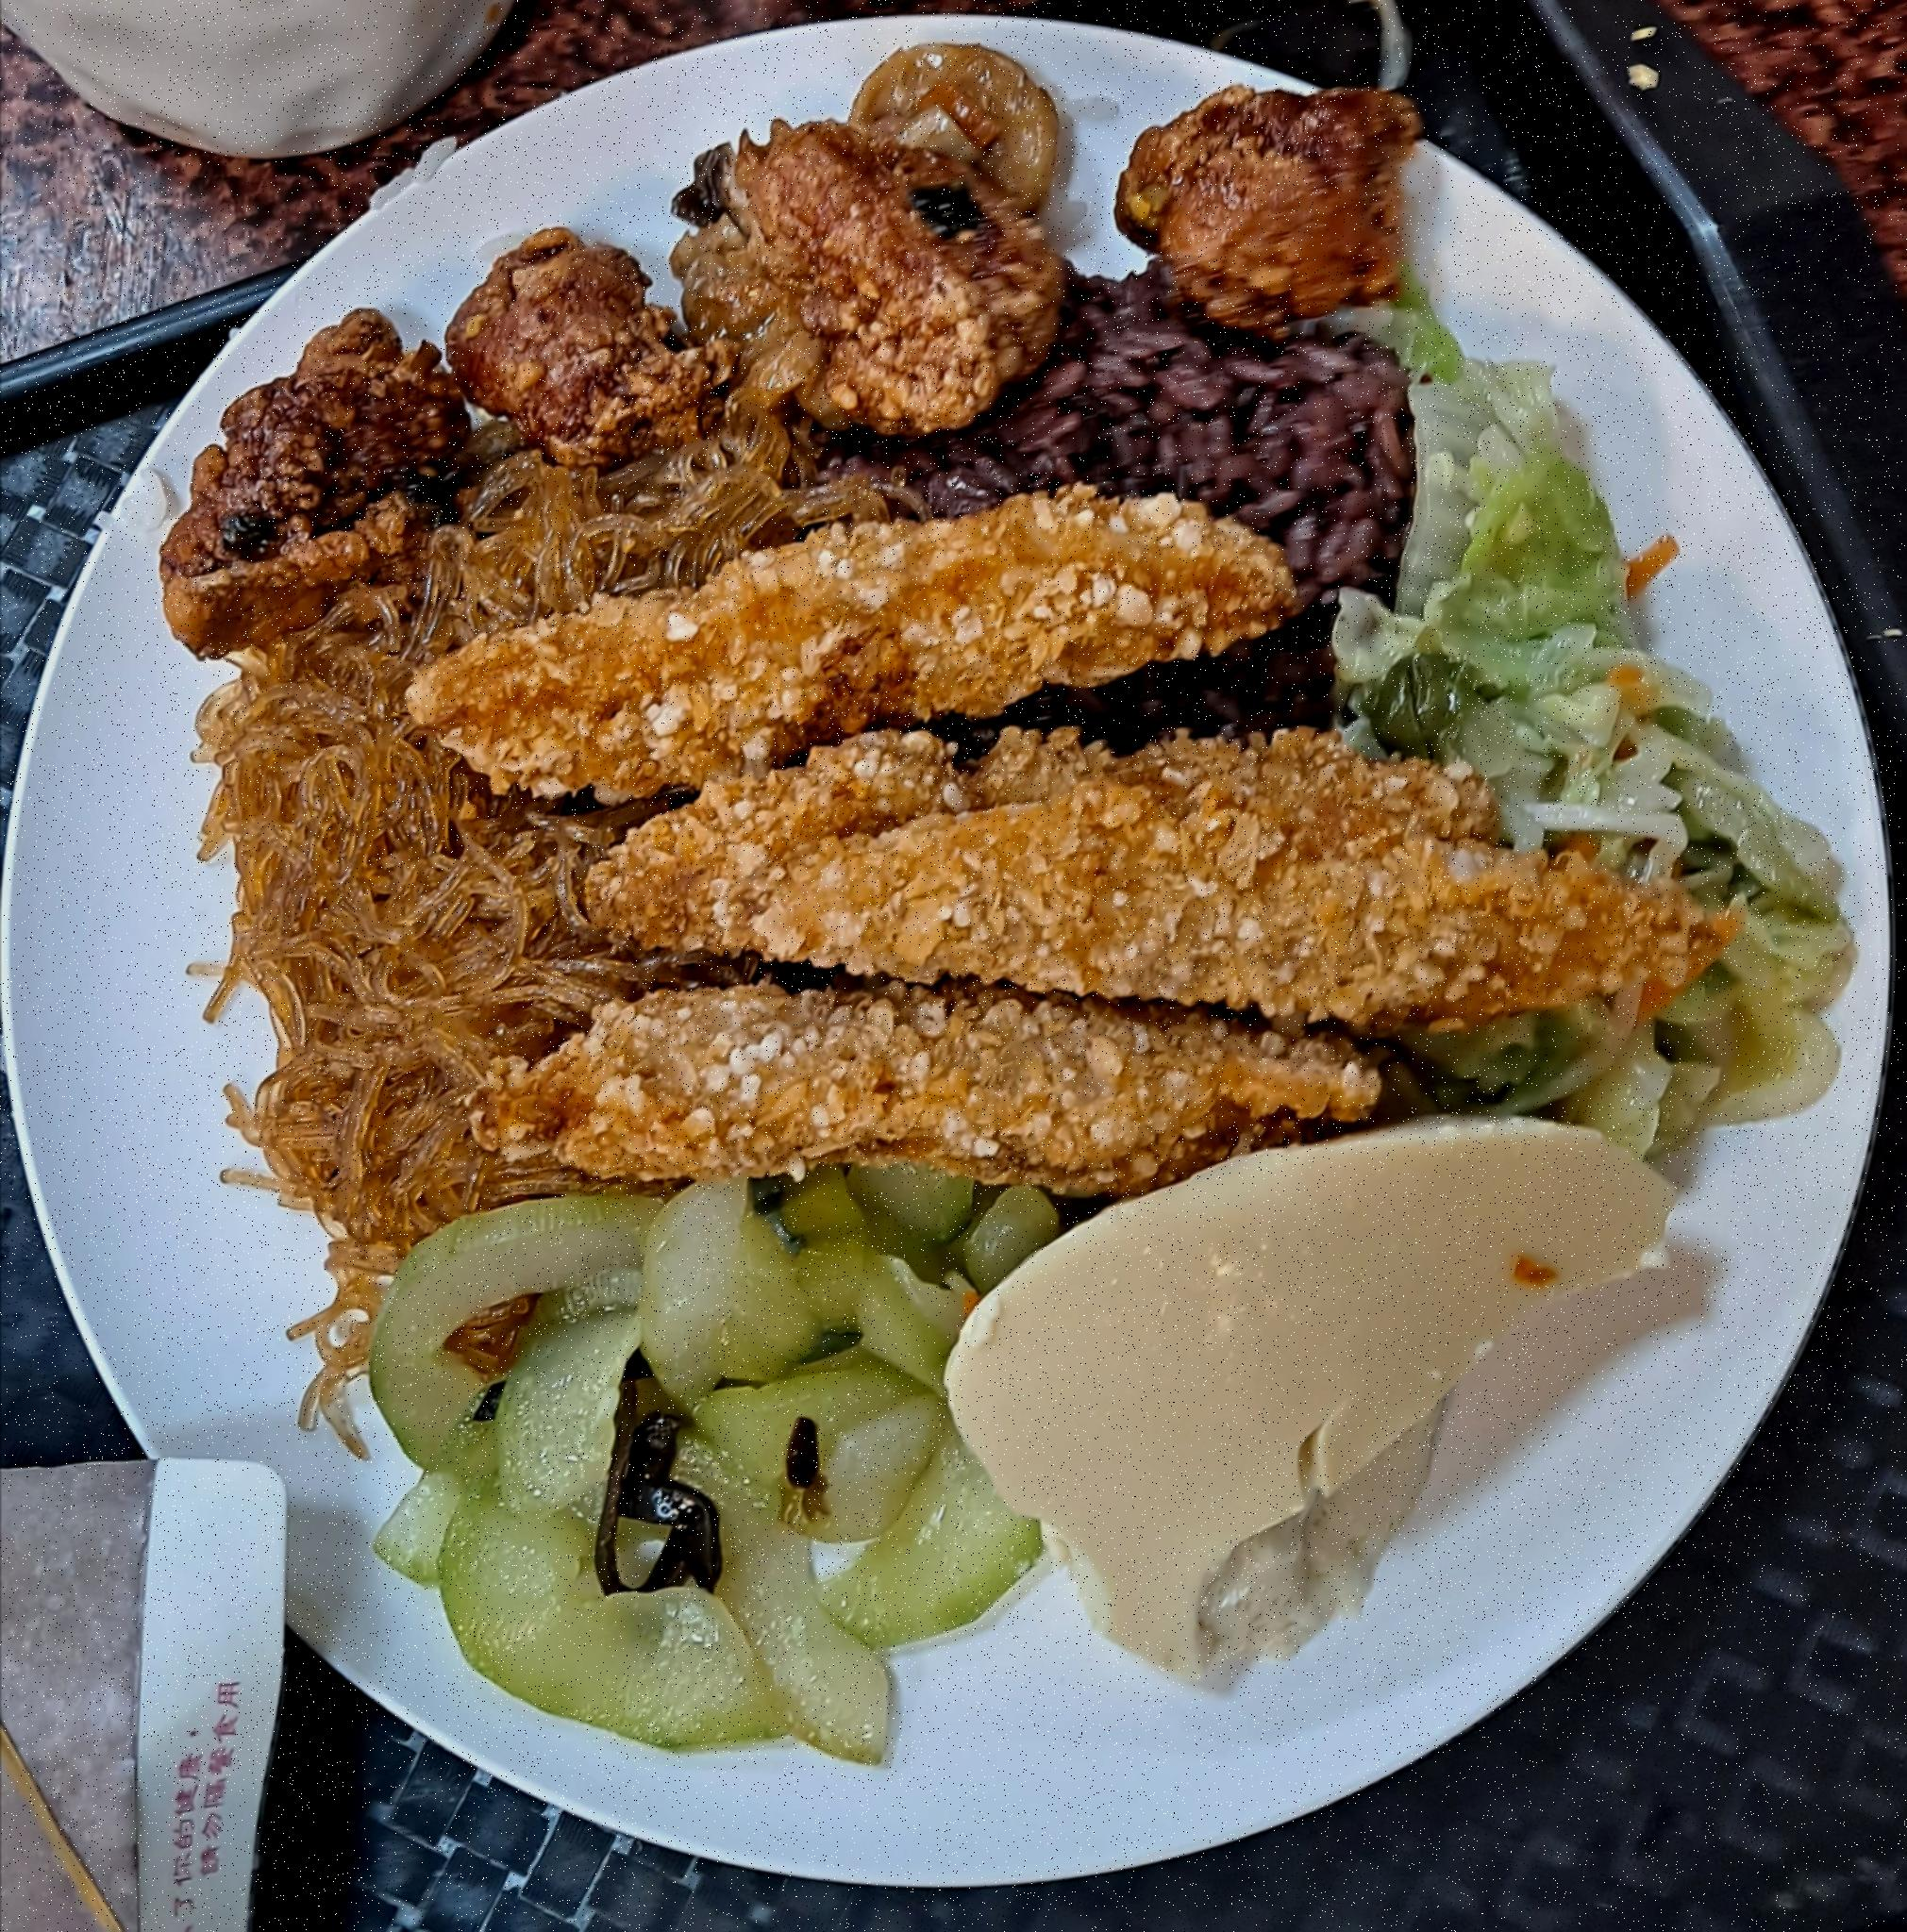big fried chicken leg: (0, 2, 1907, 1927)
braised fish fillet: (227, 433, 784, 1321), (337, 1157, 1077, 1768), (940, 1122, 1682, 1695), (1374, 302, 1844, 1133)
braised pork: (424, 480, 1746, 1176), (136, 59, 1441, 647)
